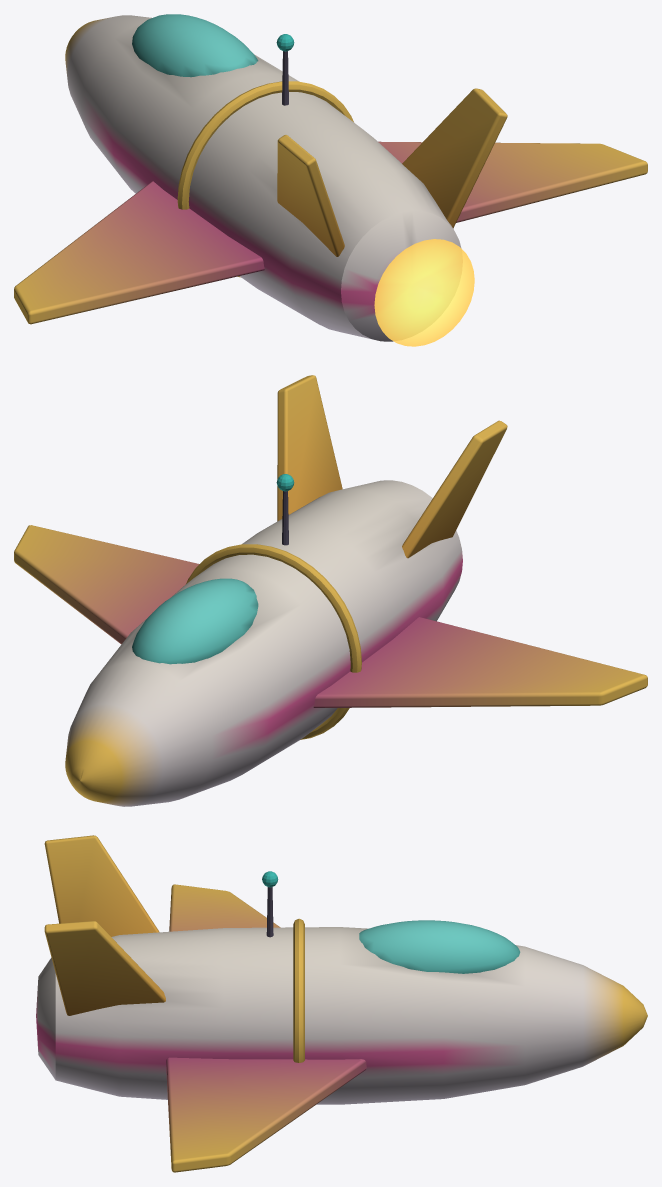
Rendered from nave.glb.
3 renders of one model, top to bottom at view 1: azimuth 30°, elevation 25°; view 2: azimuth 150°, elevation 25°; view 3: azimuth 270°, elevation 25°, orthographic. The views are drawn at different scales.
Visible parts, largest first — view 1: Casco, Motor; view 2: Casco; view 3: Casco.
Part boxes in pixels (<box>): Casco: <box>14,14,647,341</box>; Motor: <box>374,239,474,346</box>; Casco: <box>14,375,647,806</box>; Casco: <box>36,835,647,1172</box>.
Size of the model in its own units: 5.68 by 2.21 by 5.47.
